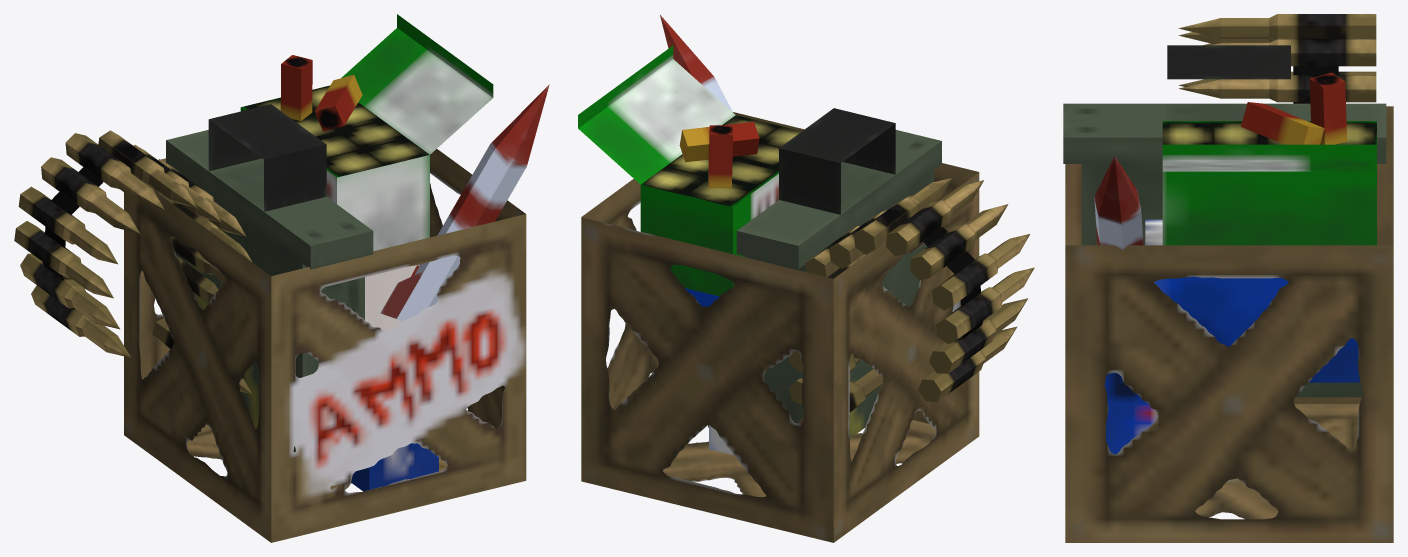
The model's file is SM_ammo box.fbx.
3 views of the same model, side by side, from view 1: azimuth 30°, elevation 25°; view 2: azimuth 150°, elevation 25°; view 3: azimuth 270°, elevation 25° (orthographic). The views are drawn at different scales.
Visible parts, largest first — view 1: wood box, ammo box.001, shotgun bullets.001, bullets, missile.002, pistol bullets.001, shotgun sjhell.001, pistol bullets.002, shotgun sjhell.002; view 2: wood box, shotgun bullets.001, ammo box.001, bullets, shotgun sjhell.002, shotgun sjhell.001, missile.002; view 3: wood box, shotgun bullets.001, ammo box.001, bullets, pistol bullets.002, missile.002, pistol bullets.001, shotgun sjhell.001, shotgun sjhell.002.
Boxes of the visible parts, x1,y1,x2,y2 form: wood box: (124,149,526,542); ammo box.001: (166,104,373,452); shotgun bullets.001: (240,14,493,251); bullets: (14,130,251,393); missile.002: (380,84,549,322); pistol bullets.001: (351,443,438,491); shotgun sjhell.001: (280,55,312,120); pistol bullets.002: (365,264,419,330); shotgun sjhell.002: (314,74,362,131); wood box: (581,112,979,542); shotgun bullets.001: (578,45,801,296); ammo box.001: (736,108,941,438); bullets: (788,178,1034,423); shotgun sjhell.002: (679,121,759,162); shotgun sjhell.001: (708,125,732,188); missile.002: (660,15,732,111); wood box: (1065,106,1393,542); shotgun bullets.001: (1162,121,1376,245); ammo box.001: (1063,45,1386,397); bullets: (1178,14,1376,103); pistol bullets.002: (1145,219,1359,382); missile.002: (1094,156,1143,250); pistol bullets.001: (1104,372,1157,454); shotgun sjhell.001: (1309,72,1347,144); shotgun sjhell.002: (1241,102,1324,144).
Bounding box in the file's own units: 265 × 224 × 163.
2 materials, 2 textured.
